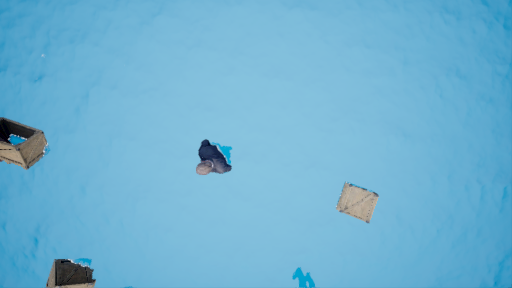person: (192, 137, 236, 179)
